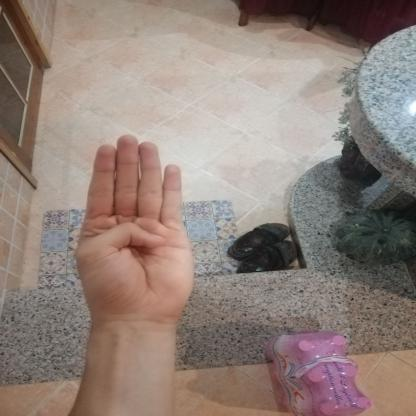KAAF: (48, 124, 220, 338)
